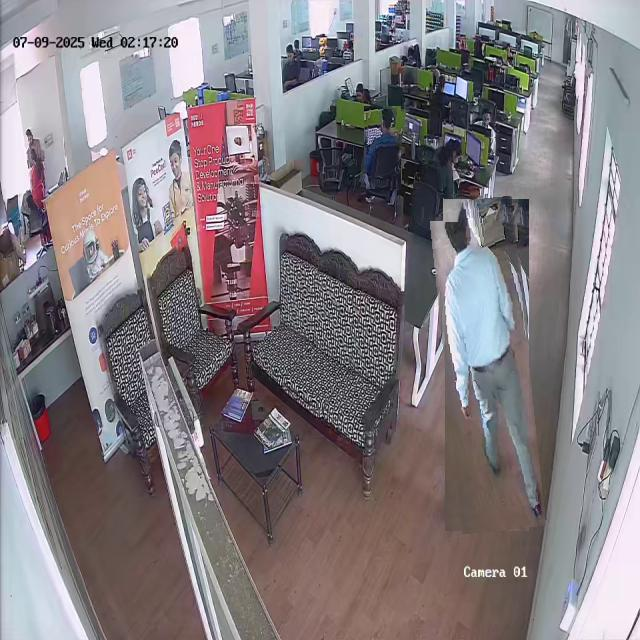person: (437, 198, 537, 532), (361, 105, 404, 190), (425, 138, 464, 222), (25, 150, 50, 209), (472, 106, 498, 138), (24, 128, 39, 160)
